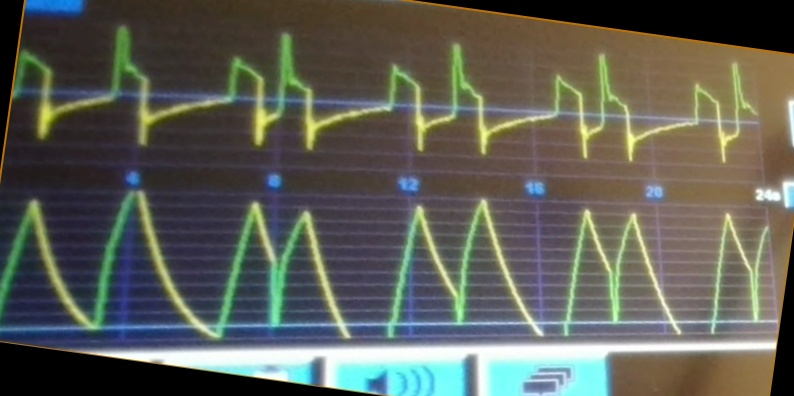Double_Triggering Flow: (14, 24, 759, 163)
Double_Triggering Volume: (4, 189, 769, 339)
